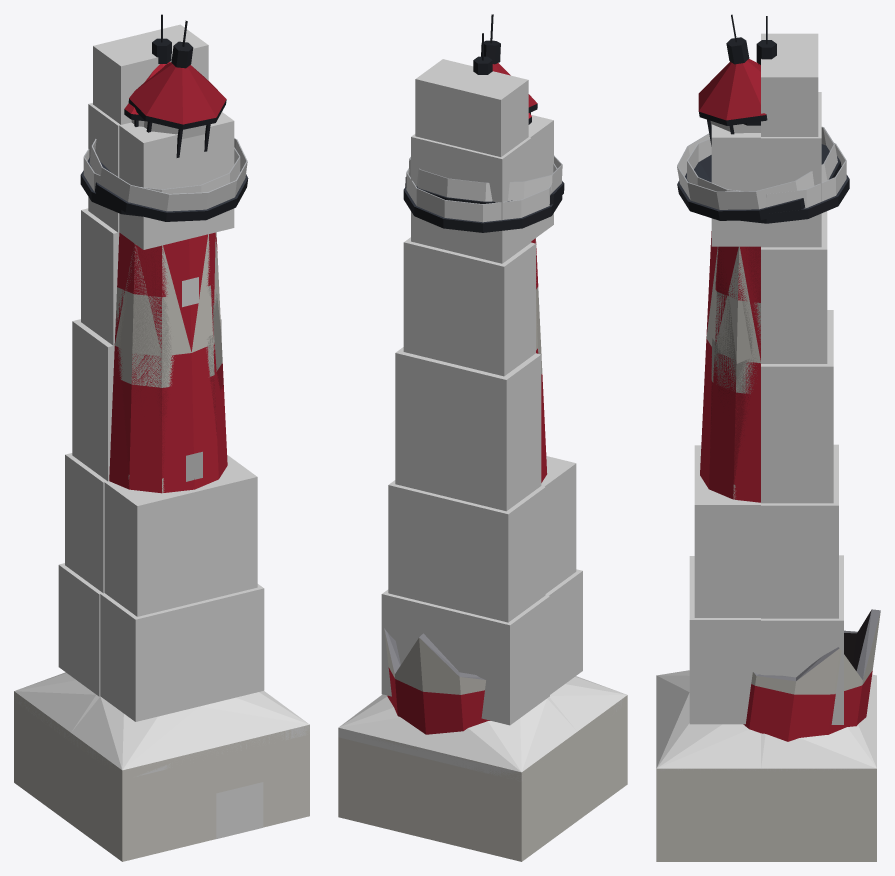
File: lm_farewell_light.glb
3 renders of one model, left to right at view 1: azimuth 30°, elevation 25°; view 2: azimuth 150°, elevation 25°; view 3: azimuth 270°, elevation 25°, orthographic. The views are drawn at different scales.
Visible parts, largest first — view 1: damaged, chunk_00, chunk_04, chunk_02, chunk_06, intact, chunk_10, chunk_08, chunk_01, chunk_07, chunk_12, chunk_05 (+3 smaller); view 2: chunk_01, chunk_07, chunk_05, chunk_09, intact, chunk_03, chunk_12, chunk_11, damaged, rubble, chunk_00, chunk_04 (+2 smaller); view 3: chunk_00, damaged, chunk_01, chunk_07, chunk_05, rubble, chunk_04, chunk_09, intact, chunk_02, chunk_06, chunk_12 (+4 smaller).
Boxes of the visible parts, x1,y1,x2,y2 form: damaged: (14,20,309,861); chunk_00: (71,691,309,861); chunk_04: (104,455,257,616); chunk_02: (100,584,264,721); chunk_06: (109,343,227,493); intact: (80,14,309,860); chunk_10: (119,112,234,249); chunk_08: (114,232,219,356); chunk_01: (14,672,99,823); chunk_07: (72,319,221,481); chunk_12: (93,24,208,124); chunk_05: (65,453,107,593); chunk_01: (338,694,577,861); chunk_07: (395,347,541,511); chunk_05: (388,480,545,622); chunk_09: (403,237,535,376); intact: (338,33,562,861); chunk_03: (381,589,549,725); chunk_12: (415,59,528,156); chunk_11: (411,134,531,263); damaged: (338,14,626,860); rubble: (384,628,490,734); chunk_00: (549,676,627,820); chunk_04: (541,456,576,593); chunk_00: (656,670,760,861); damaged: (656,14,876,861); chunk_01: (761,674,876,861); chunk_07: (761,310,833,503); chunk_05: (761,444,838,618); rubble: (743,609,880,741); chunk_04: (694,445,760,617); chunk_09: (761,211,827,363); intact: (656,16,876,861); chunk_02: (689,556,760,724); chunk_06: (700,339,760,502); chunk_12: (761,33,818,136).
Size of the model in its own units: 12 by 48.3 by 12.22.
